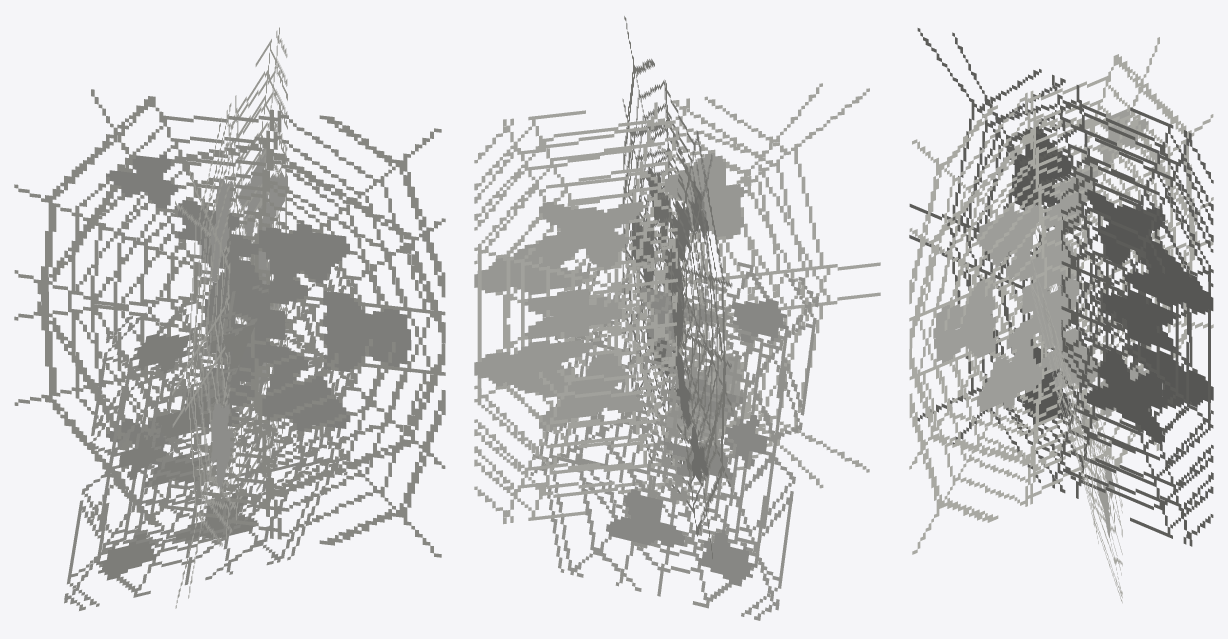
The model's file is fd_web__3.glb.
3 renders of one model, left to right at view 1: azimuth 30°, elevation 25°; view 2: azimuth 150°, elevation 25°; view 3: azimuth 270°, elevation 25°, orthographic. The views are drawn at different scales.
Parts seen in each view (by area): view 1: block_web 0, block_web 2, block_web 1; view 2: block_web 1, block_web 2, block_web 0; view 3: block_web 0, block_web 1, block_web 2.
Part boxes in pixels (x1=…): block_web 0: x1=14, y1=89, x2=445, y2=557; block_web 2: x1=64, y1=266, x2=354, y2=610; block_web 1: x1=172, y1=27, x2=287, y2=608; block_web 1: x1=474, y1=83, x2=880, y2=524; block_web 2: x1=530, y1=233, x2=818, y2=620; block_web 0: x1=622, y1=16, x2=732, y2=559; block_web 0: x1=909, y1=37, x2=1213, y2=554; block_web 1: x1=909, y1=28, x2=1213, y2=546; block_web 2: x1=1030, y1=226, x2=1122, y2=603.
Bounding box in the file's own units: 1 × 1.75 × 1.
Materials: 1 (1 with a texture image).
